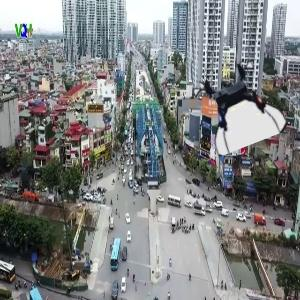drone: (196, 64, 280, 148)
